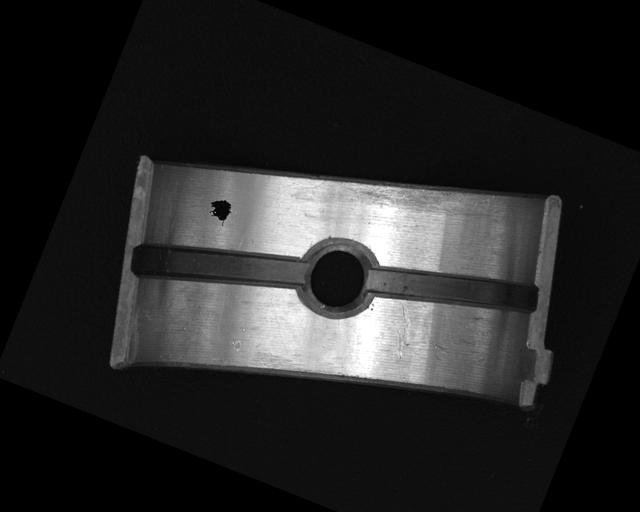blot: (203, 193, 236, 227)
bruise: (424, 339, 450, 364), (228, 336, 245, 355)
gap: (129, 201, 312, 332), (363, 228, 544, 351)
hole: (288, 225, 388, 329)
nick: (381, 298, 425, 361)
scratch: (341, 142, 500, 249)
